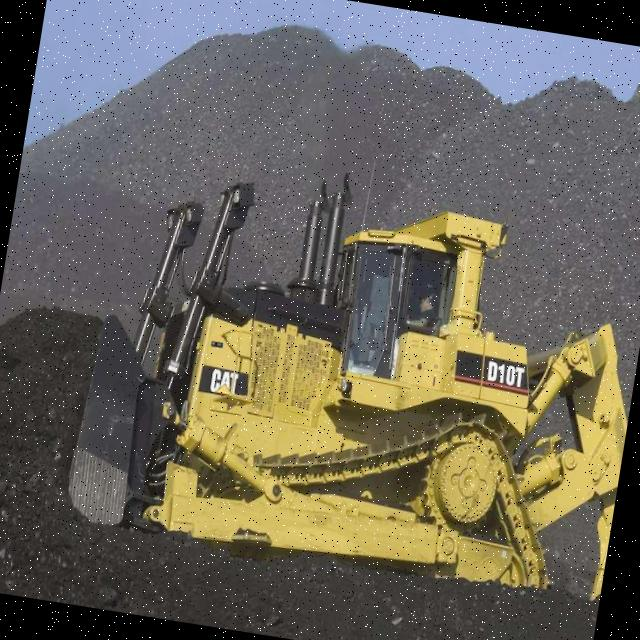Bulldozer: (29, 87, 640, 634)
